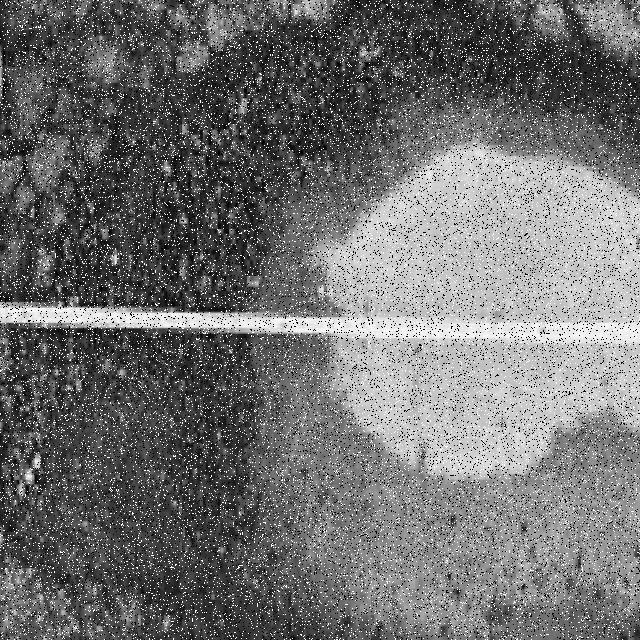pothole: (11, 333, 640, 640), (67, 0, 640, 312)
